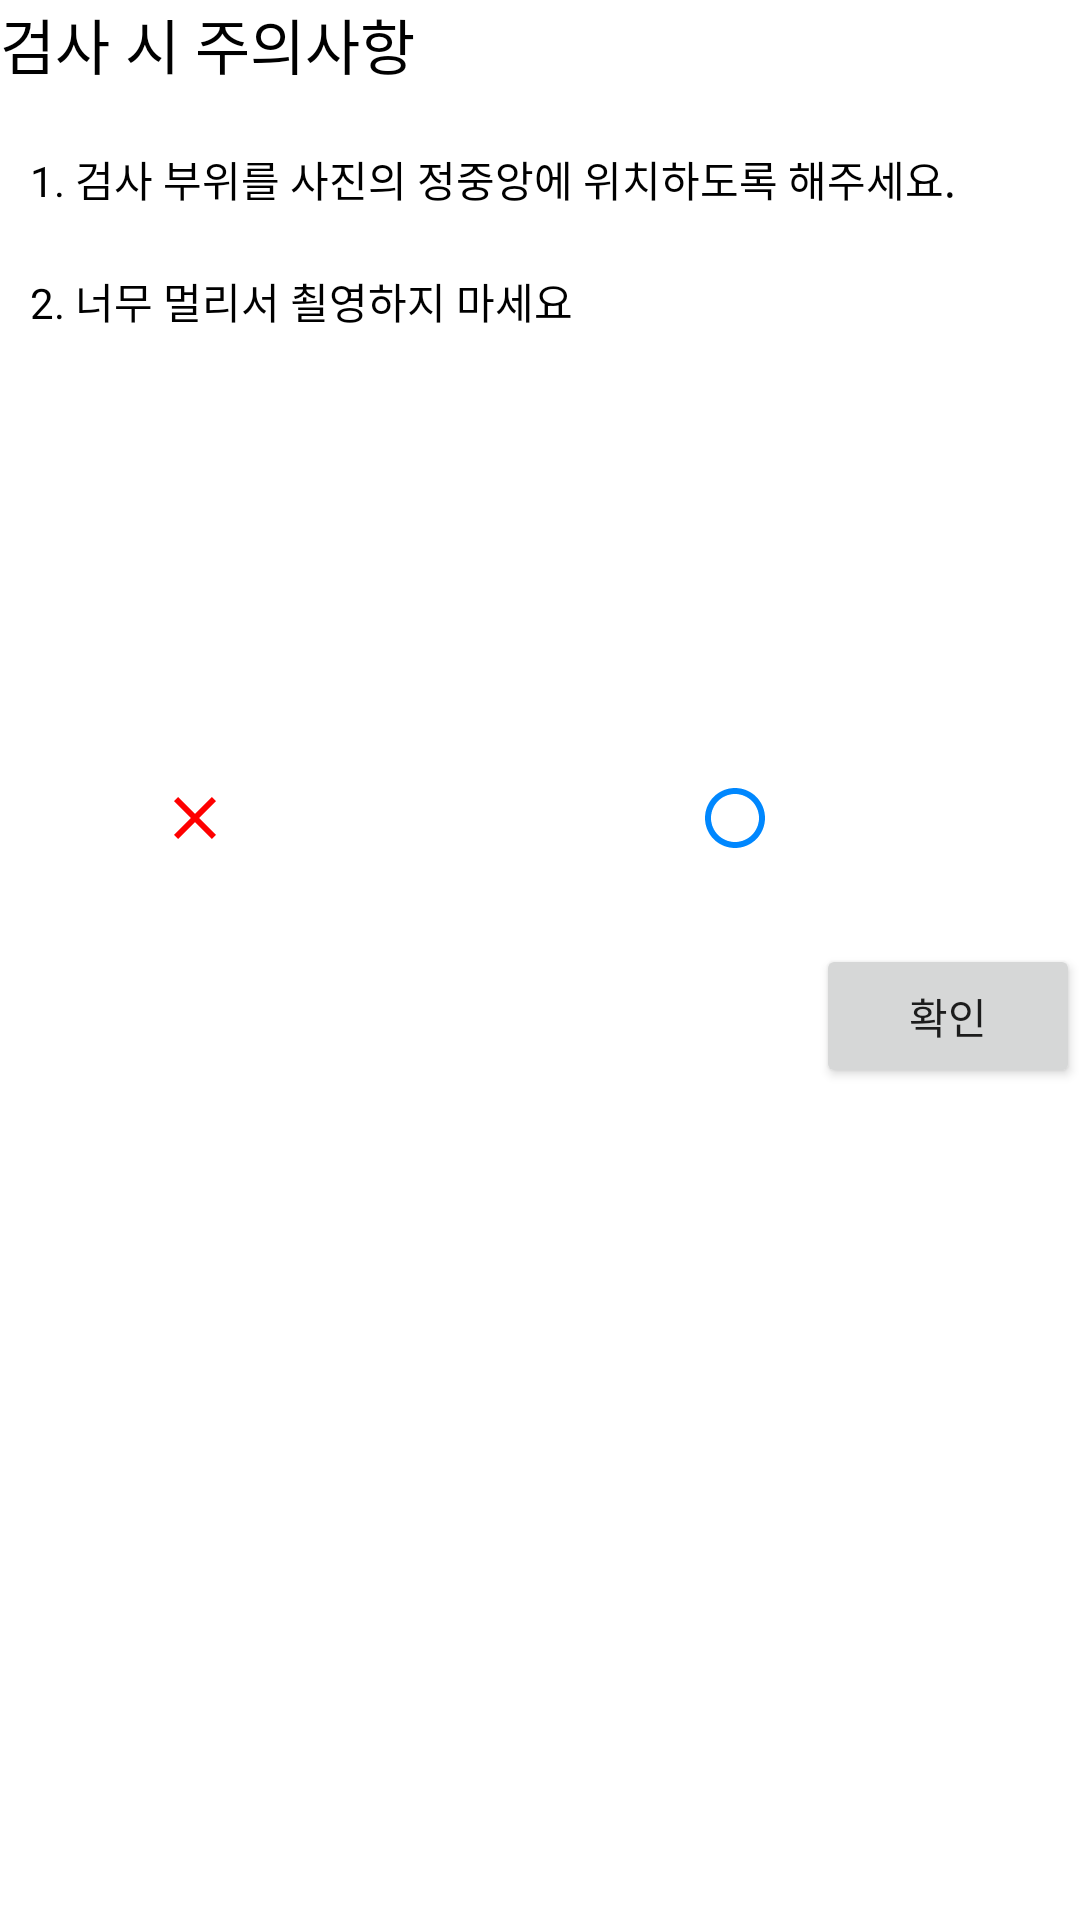

Icon bounding boxes for this 1080×1920 phone screenshot, format (x1, y1, x2, y2):
close: (174, 797, 216, 839)
panorama fish eye: (705, 788, 765, 848)
